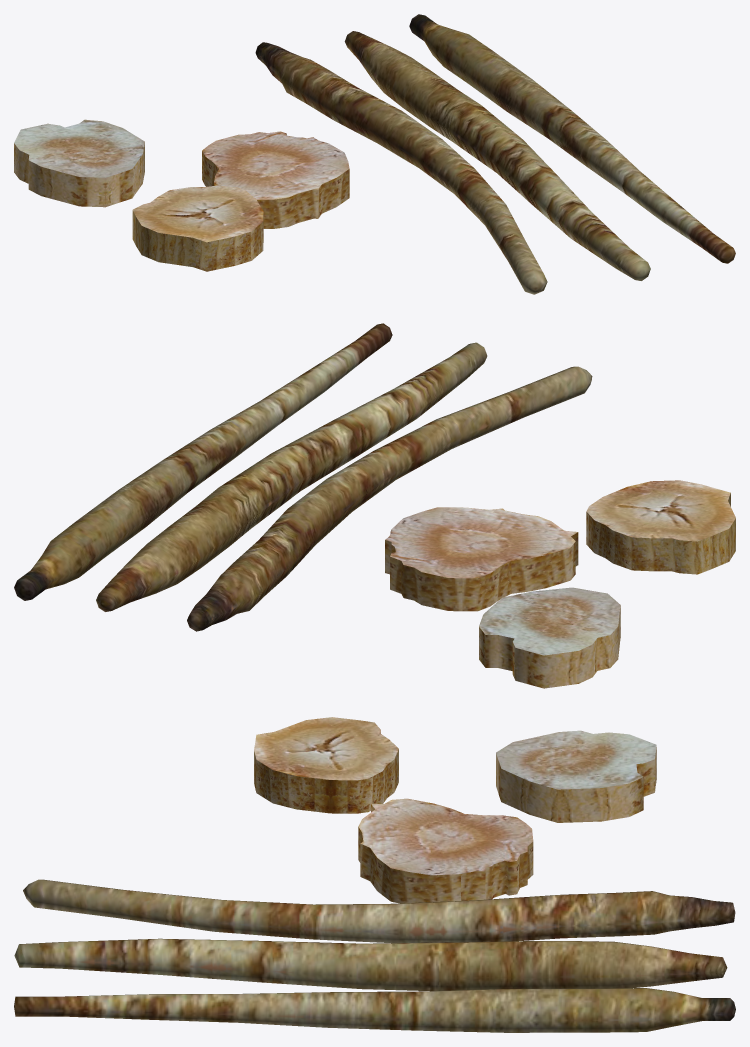
File: beishashen.FBX
3 views of the same model, one above another, from view 1: azimuth 30°, elevation 25°; view 2: azimuth 150°, elevation 25°; view 3: azimuth 270°, elevation 25° (orthographic). The views are drawn at different scales.
Visible parts, largest first — view 1: Cylinder002, Cylinder003, Cylinder001, Line002, Line001, Line003; view 2: Cylinder002, Cylinder003, Cylinder001, Line002, Line003, Line001; view 3: Cylinder002, Cylinder003, Cylinder001, Line002, Line001, Line003.
Part boxes in pixels (x1=…): Cylinder002: x1=344, y1=31, x2=650, y2=280; Cylinder003: x1=255, y1=42, x2=547, y2=294; Cylinder001: x1=409, y1=14, x2=735, y2=263; Line002: x1=202, y1=131, x2=349, y2=228; Line001: x1=14, y1=119, x2=144, y2=207; Line003: x1=132, y1=185, x2=263, y2=271; Cylinder002: x1=96, y1=342, x2=487, y2=611; Cylinder003: x1=187, y1=366, x2=592, y2=631; Cylinder001: x1=14, y1=323, x2=392, y2=600; Line002: x1=385, y1=507, x2=578, y2=611; Line003: x1=586, y1=480, x2=735, y2=574; Line001: x1=479, y1=587, x2=620, y2=688; Cylinder002: x1=14, y1=938, x2=727, y2=990; Cylinder003: x1=23, y1=879, x2=735, y2=943; Cylinder001: x1=14, y1=988, x2=735, y2=1032; Line002: x1=358, y1=798, x2=533, y2=903; Line001: x1=496, y1=730, x2=656, y2=822; Line003: x1=254, y1=717, x2=398, y2=813.
Size of the model in its own units: 42.36 by 4.71 by 48.96.
1 material, 1 textured.
